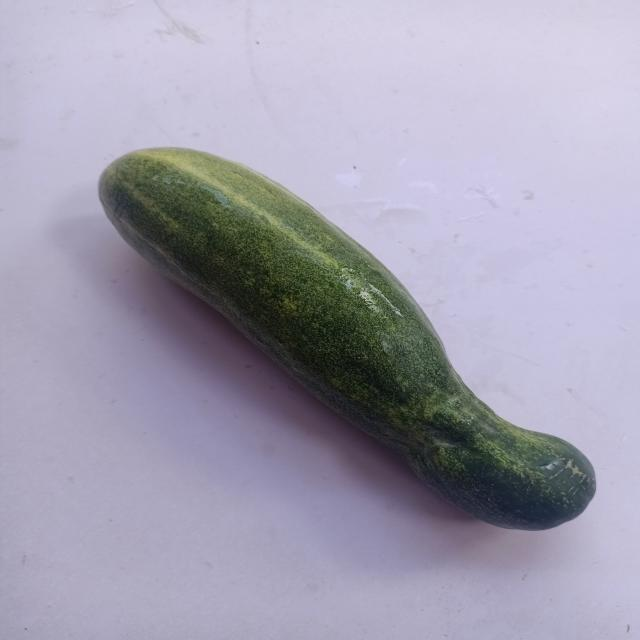Cucumber: (98, 148, 596, 531)
